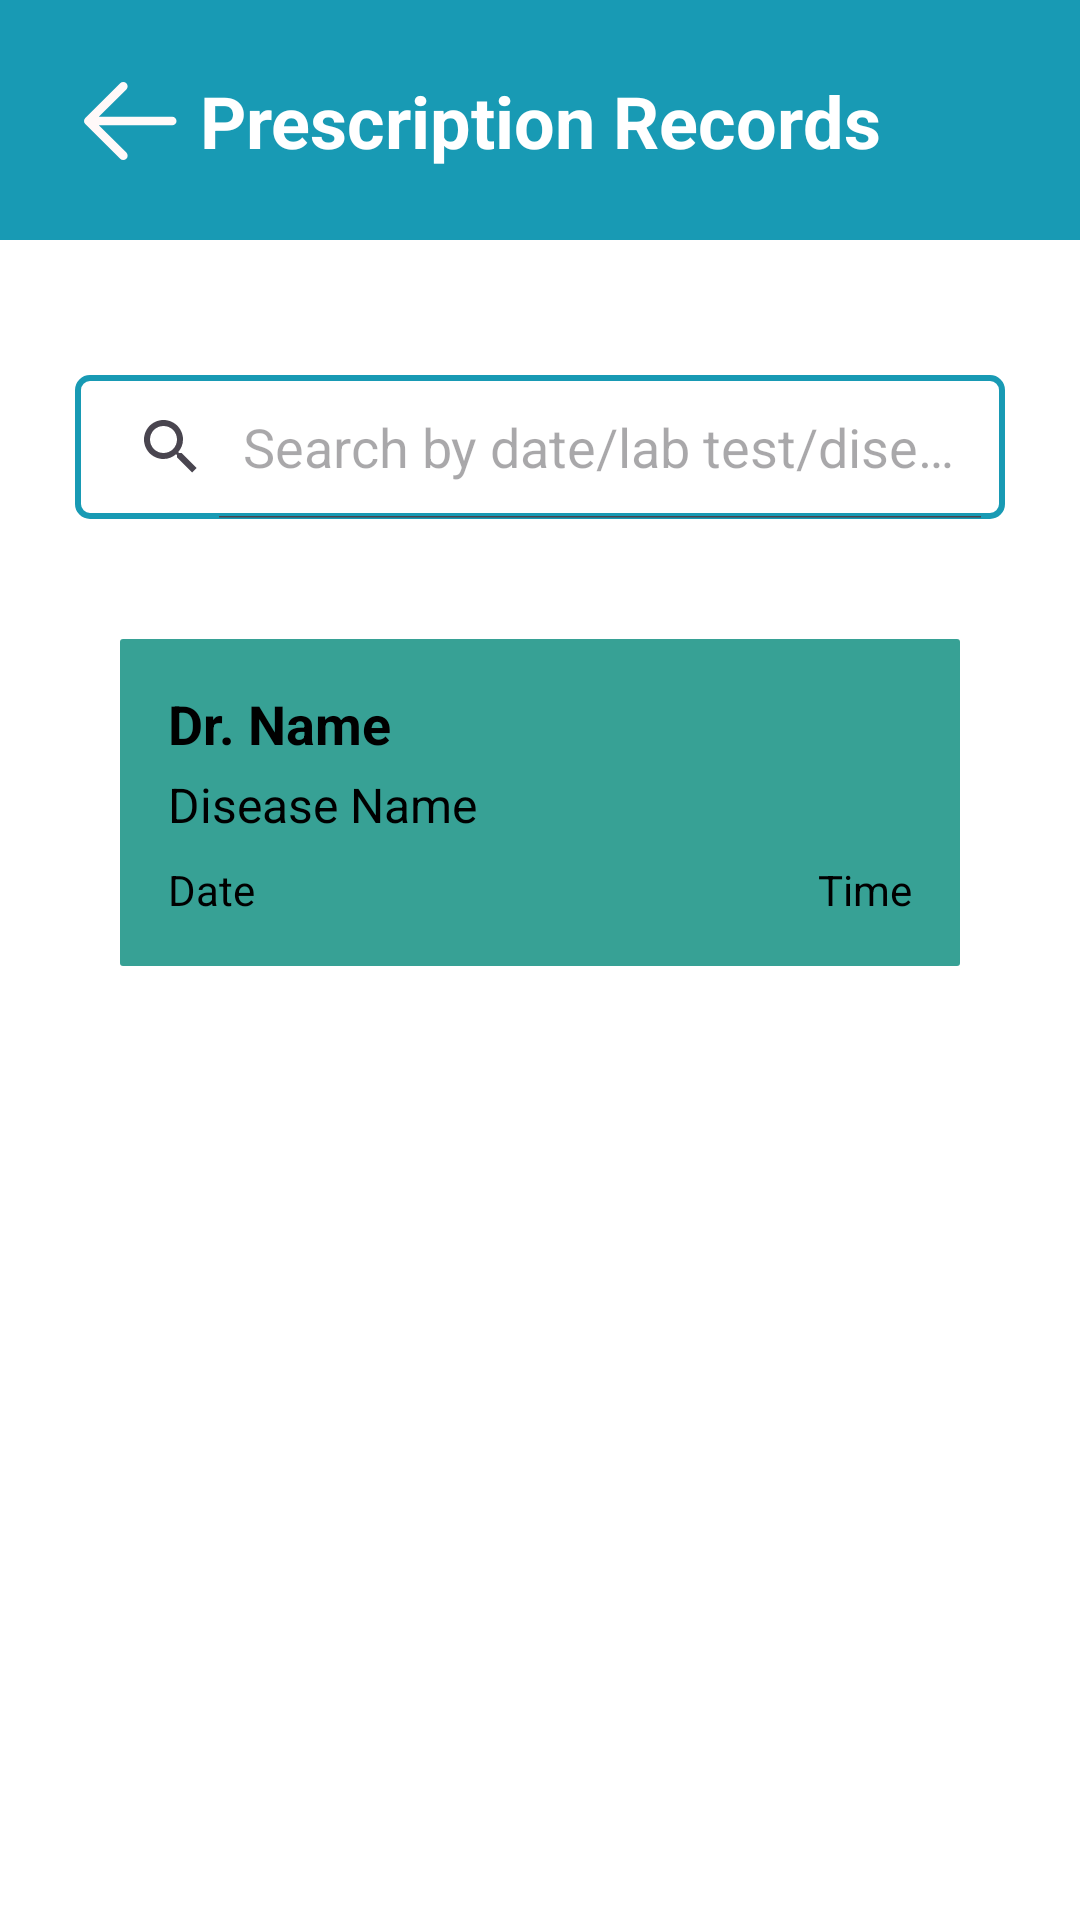

Where icons sit on this 1080×1920 app screen, as (x1=x1, y1=y1, x2=x2, y2=y2):
arrow: (x1=84, y1=82, x2=177, y2=160)
